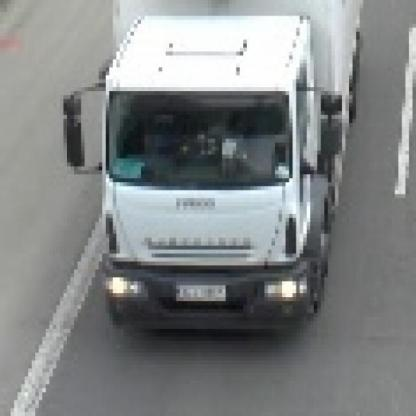truck: (68, 1, 371, 334)
